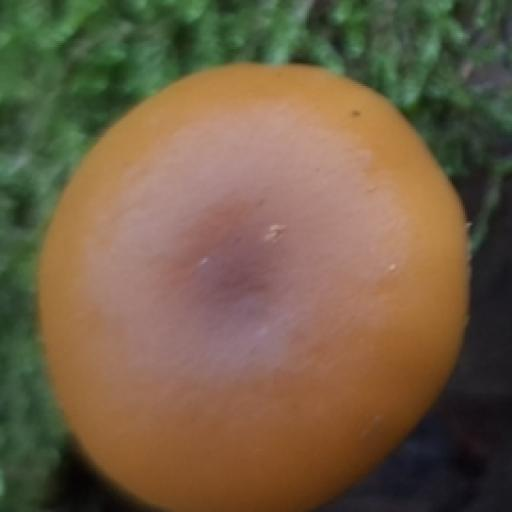mushroom: (33, 60, 462, 496)
